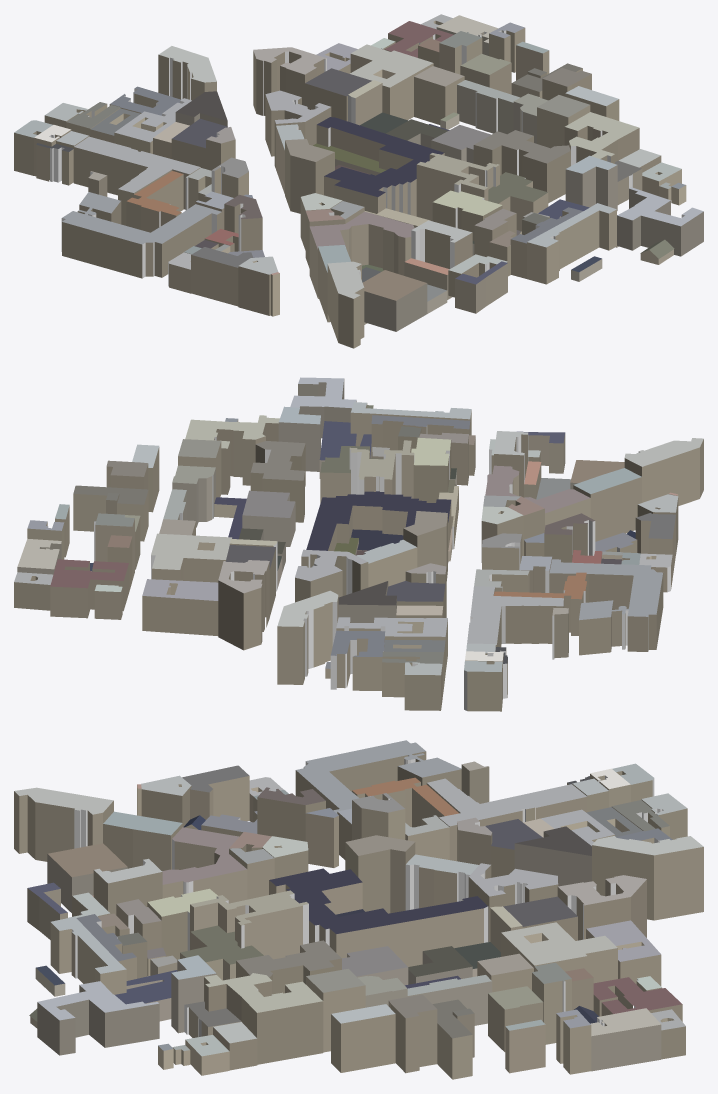
3 renders of one model, top to bottom at view 1: azimuth 30°, elevation 25°; view 2: azimuth 150°, elevation 25°; view 3: azimuth 270°, elevation 25°, orthographic. The views are drawn at different scales.
Parts seen in each view (by area): view 1: tuile; view 2: tuile; view 3: tuile.
Part boxes in pixels (bbox=[...]): tuile: bbox=[14, 14, 703, 348]; tuile: bbox=[14, 377, 703, 711]; tuile: bbox=[14, 740, 703, 1079].
Size of the model in its own units: 288 by 39.58 by 274.
